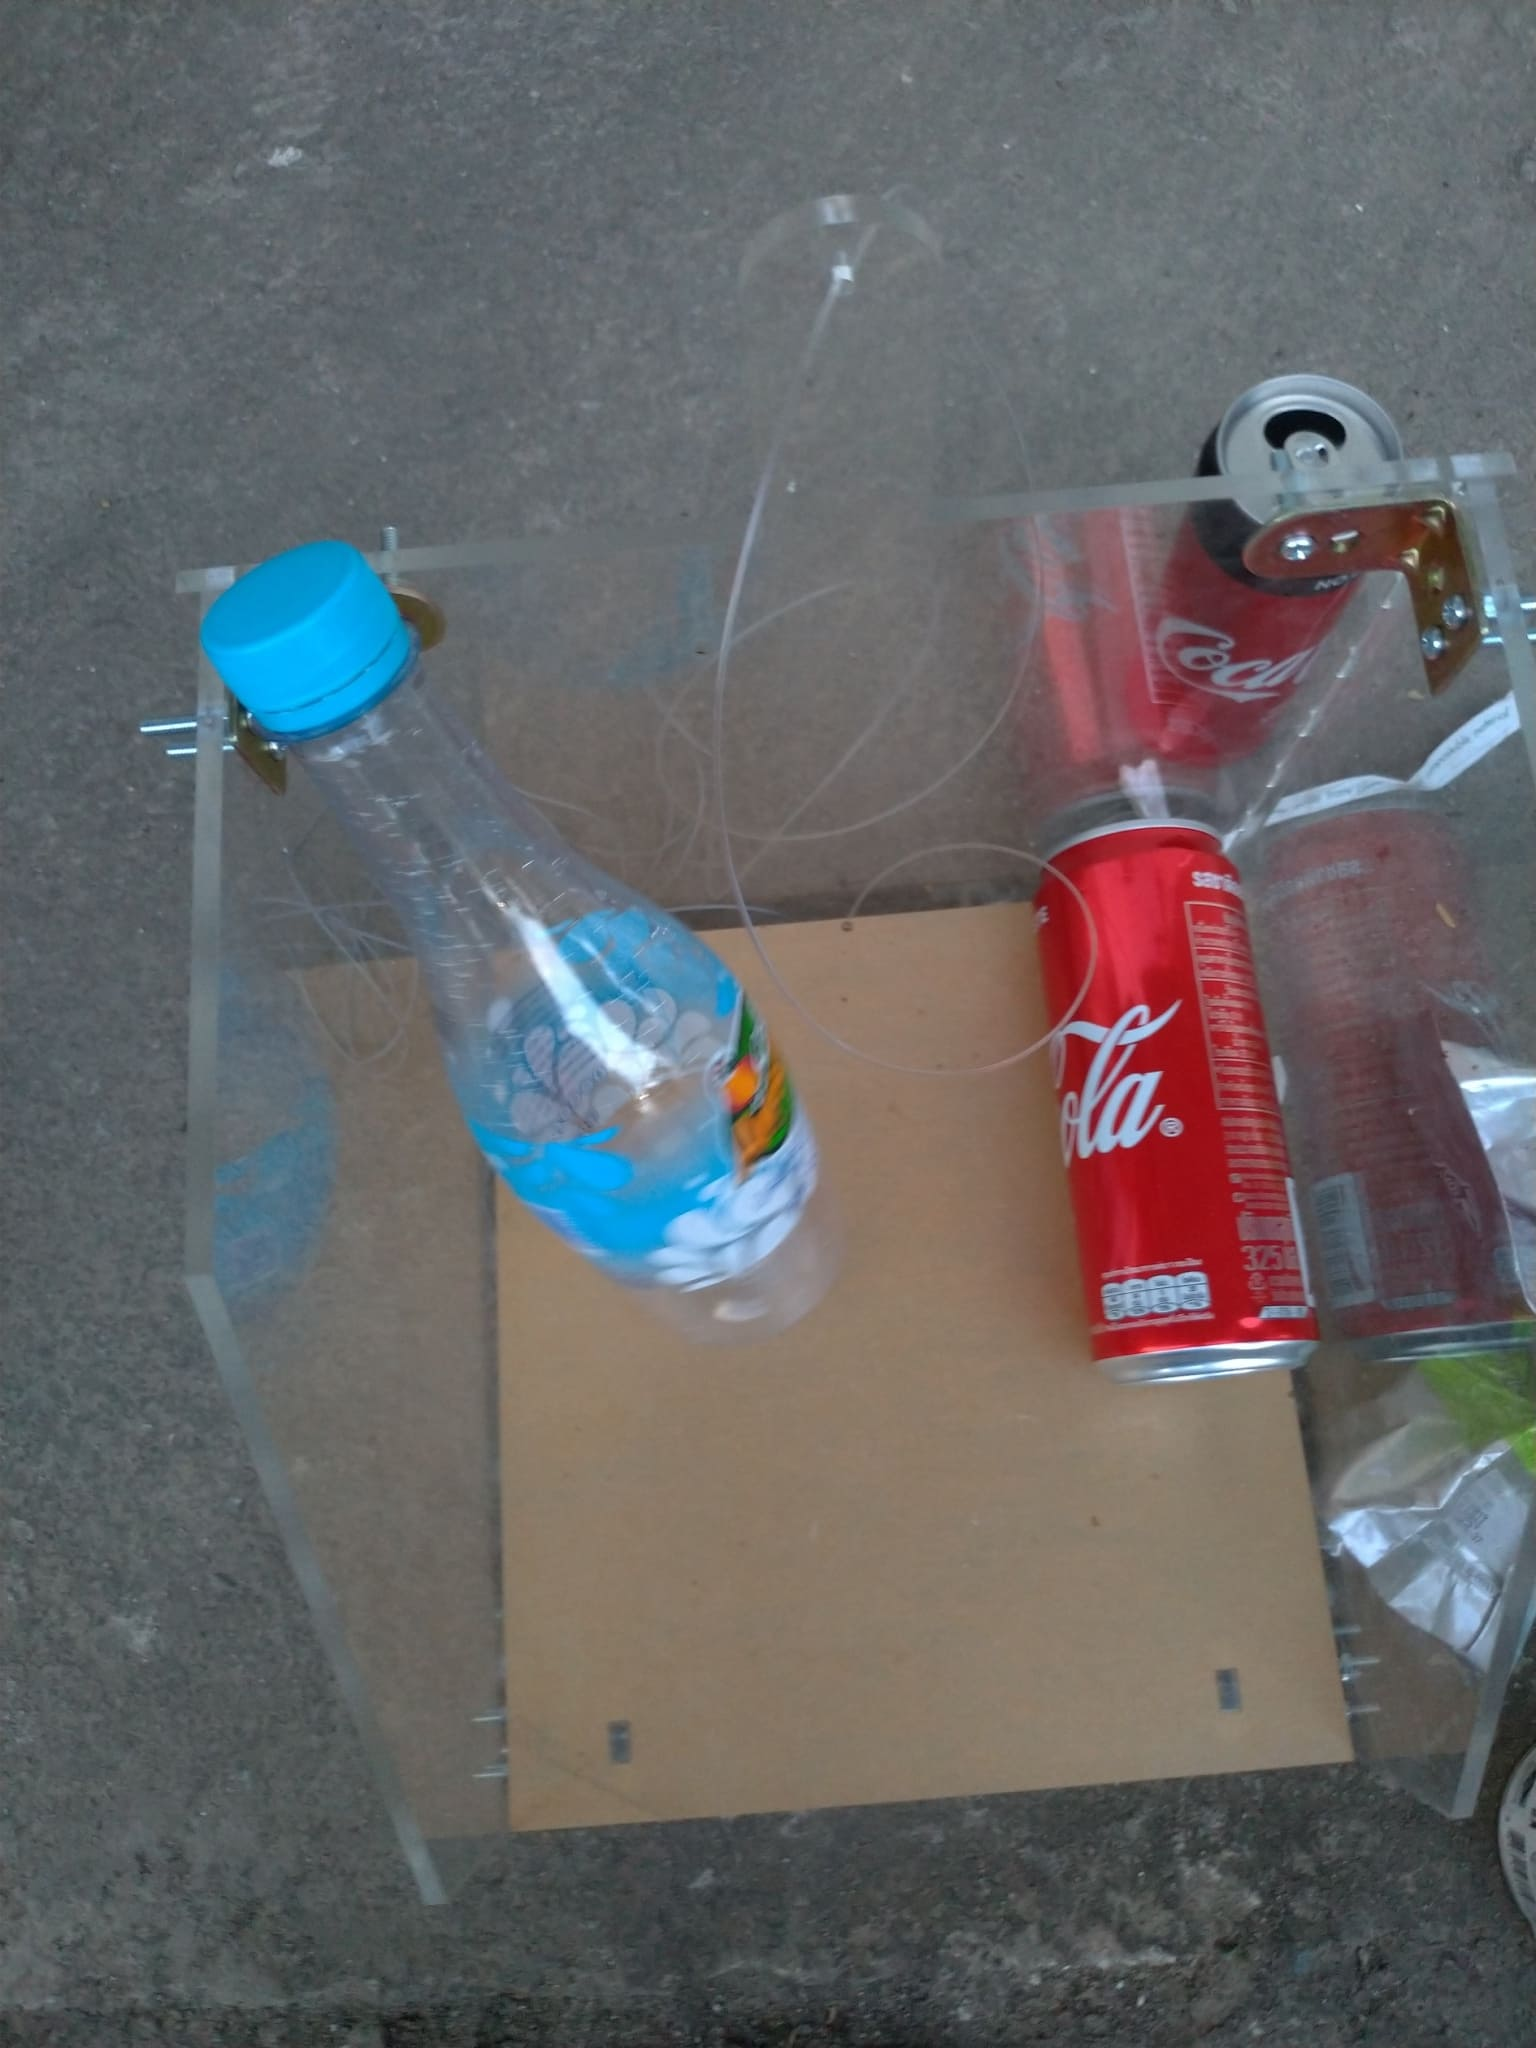AlCan: (1037, 819, 1321, 1392), (1121, 373, 1407, 768)
PlasticBottle: (194, 535, 829, 1334)
